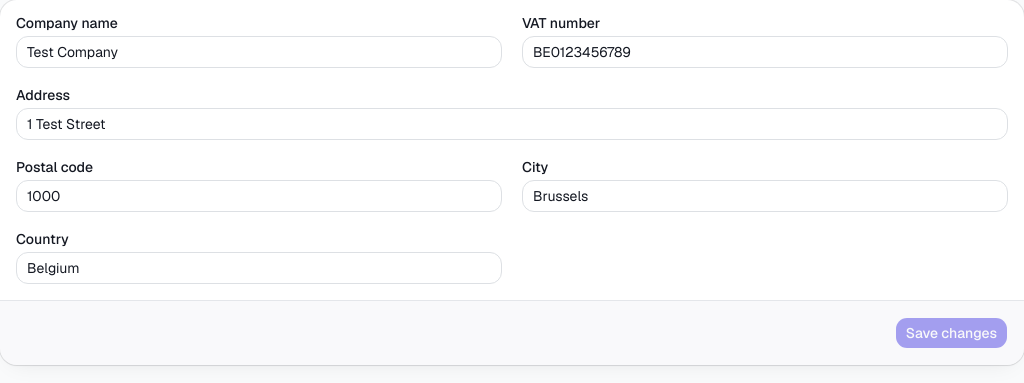
Scenario: CompanyForm › saves the edited company and confirms it
Replace the text in the field labelled "City" with "Ghent" at (765, 196), box [522,180,1008,212]
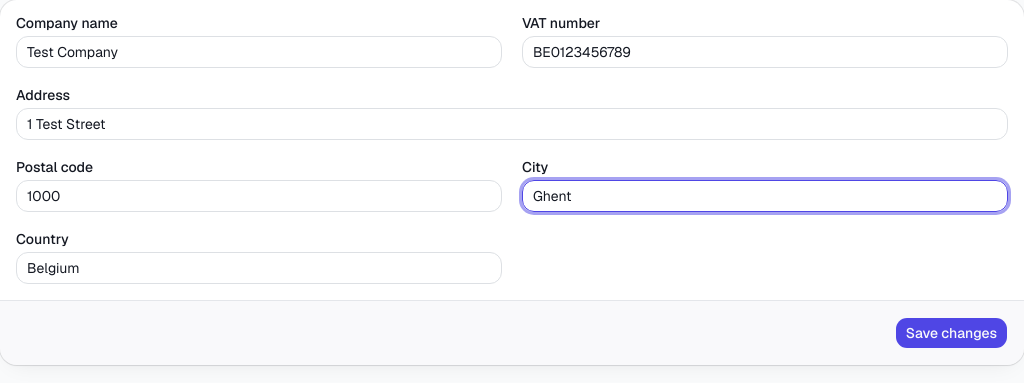
Click the button "Save changes" at (951, 333), box [895,317,1008,349]
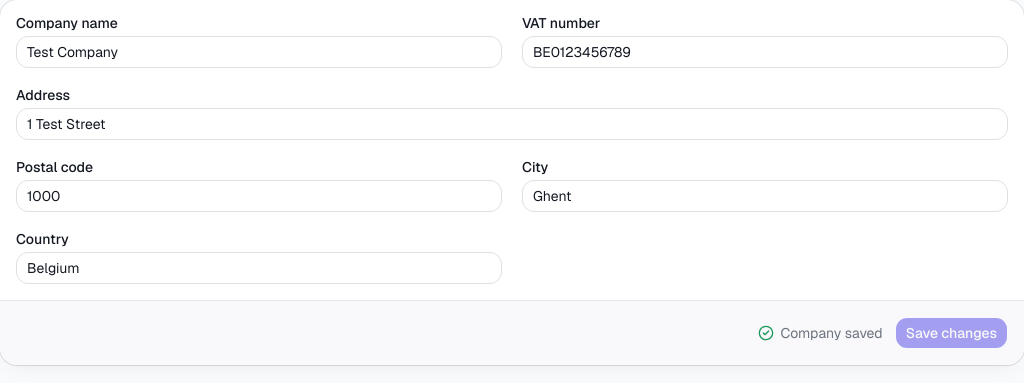
expect the message reads "Company saved": met, box [780,324,883,342]
